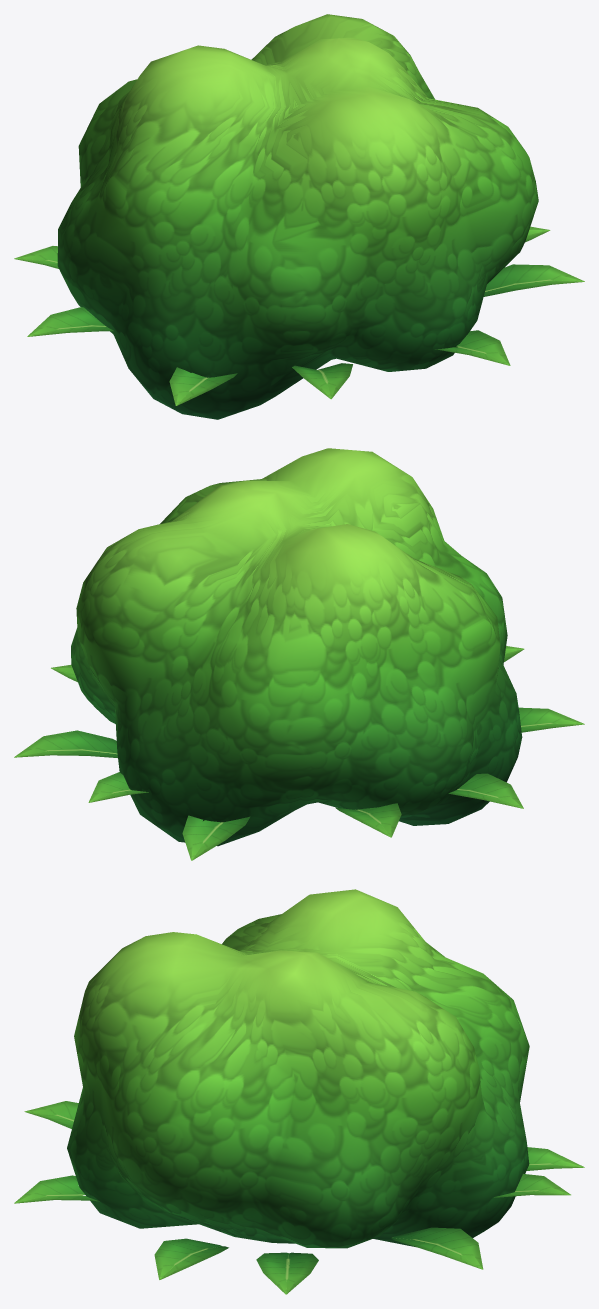
File: Bush_Round_01.fbx
3 views of the same model, one above another, from view 1: azimuth 30°, elevation 25°; view 2: azimuth 150°, elevation 25°; view 3: azimuth 270°, elevation 25° (orthographic). The views are drawn at different scales.
Parts seen in each view (by area): view 1: Bush_Round_01; view 2: Bush_Round_01; view 3: Bush_Round_01.
Boxes of the visible parts, bbox=[...] form: Bush_Round_01: bbox=[14, 14, 584, 419]; Bush_Round_01: bbox=[14, 448, 584, 860]; Bush_Round_01: bbox=[14, 889, 584, 1294].
Bounding box in the file's own units: 2.42 × 1.44 × 2.36.
1 material, 1 textured.
